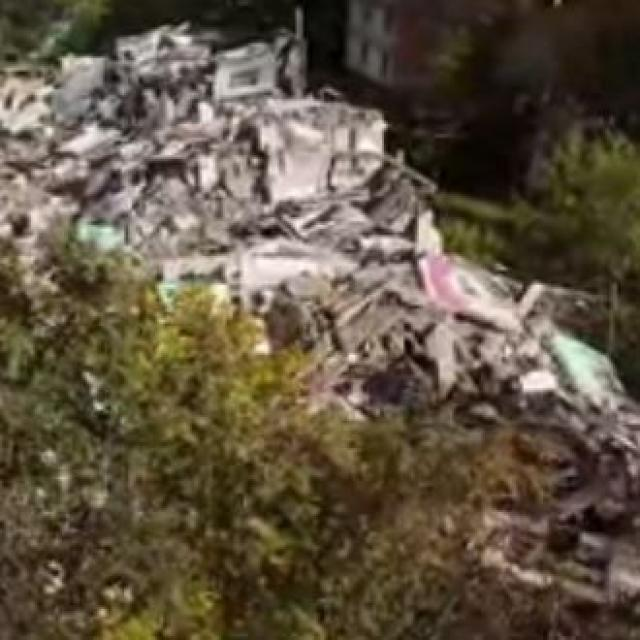collapsed_building: (0, 41, 555, 409)
